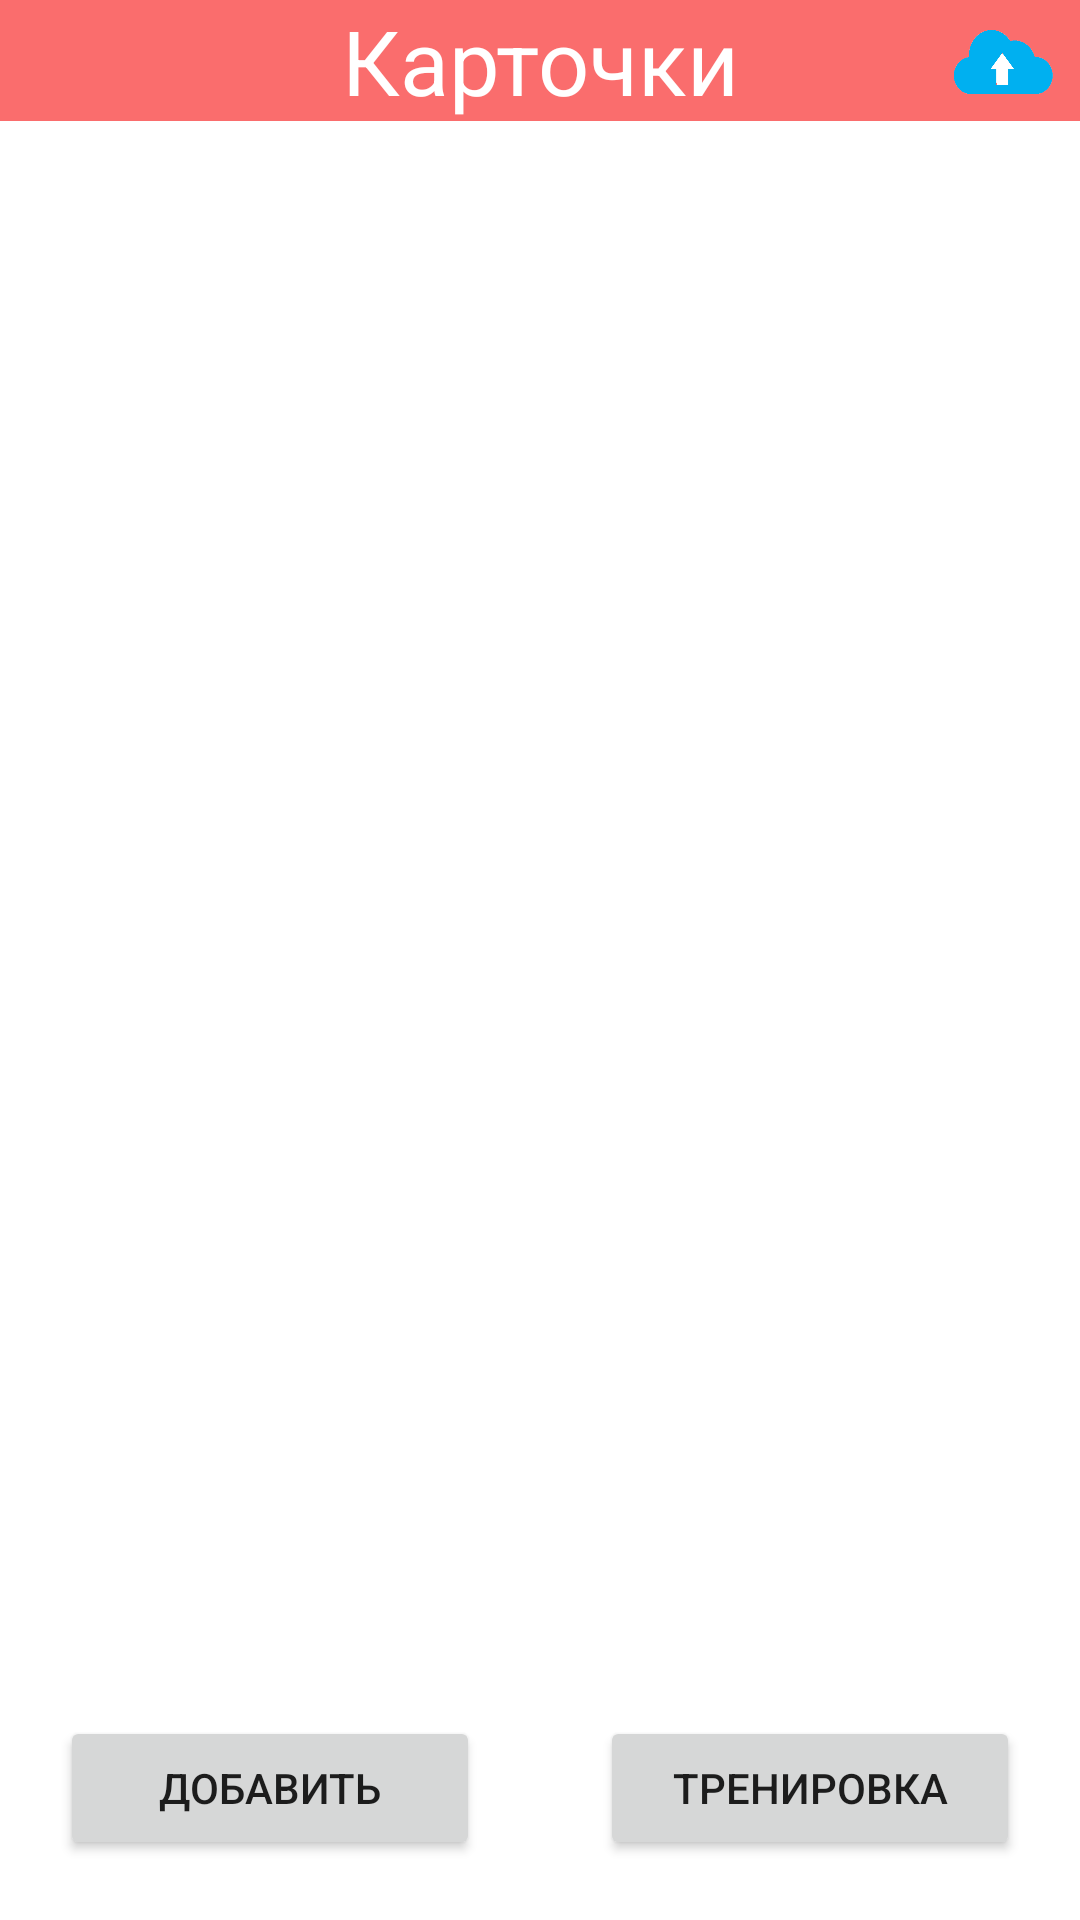

Point at icon controls on the screen. Image size 1080w x 1920h, points as (x=x, y=y).
upload: (x=1003, y=62)
